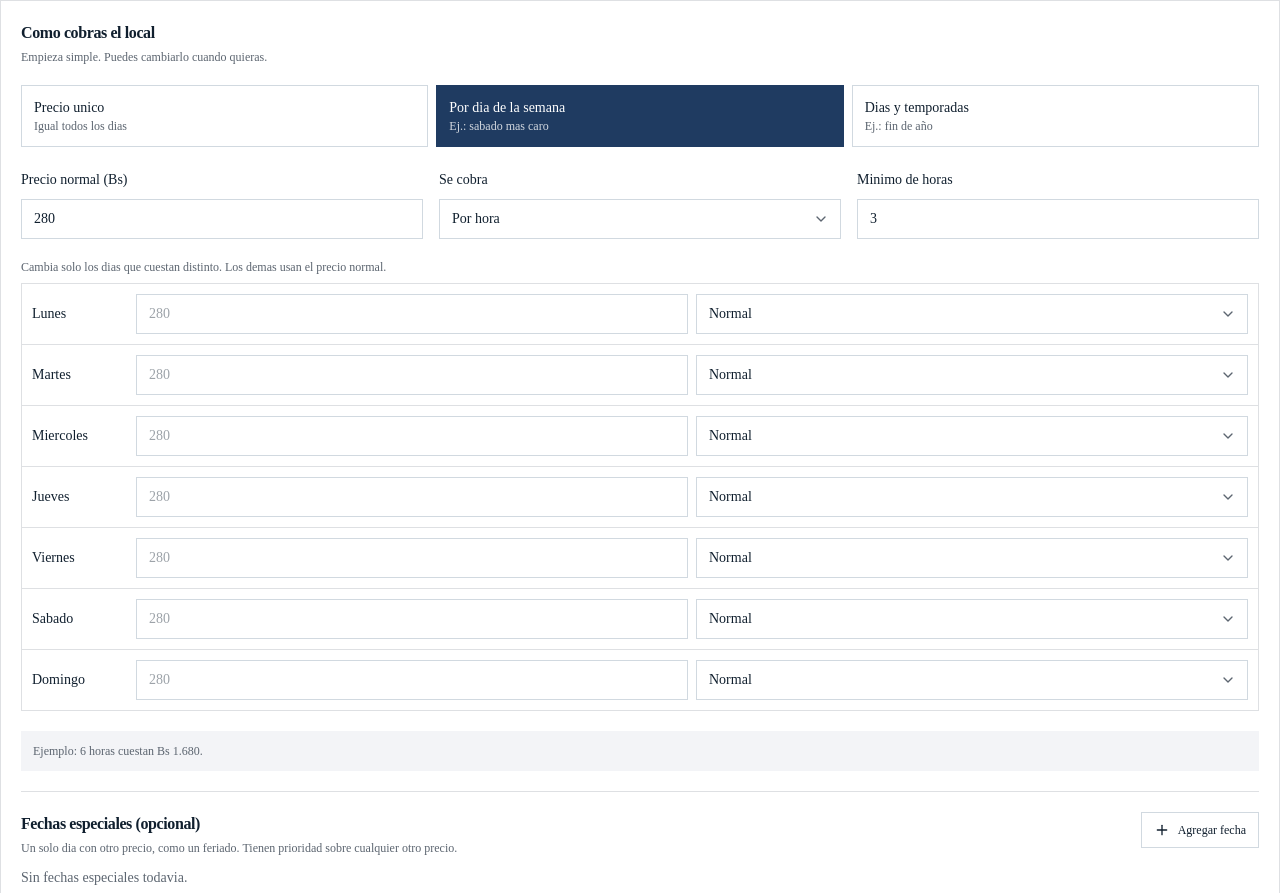
Test: VenuePricingSection › por dia: activa el dia al escribir y actualiza el ejemplo
Step 1. Type "3000" into the number field named "Precio del Sabado" → (412, 619), box left=136, top=599, right=688, bottom=639
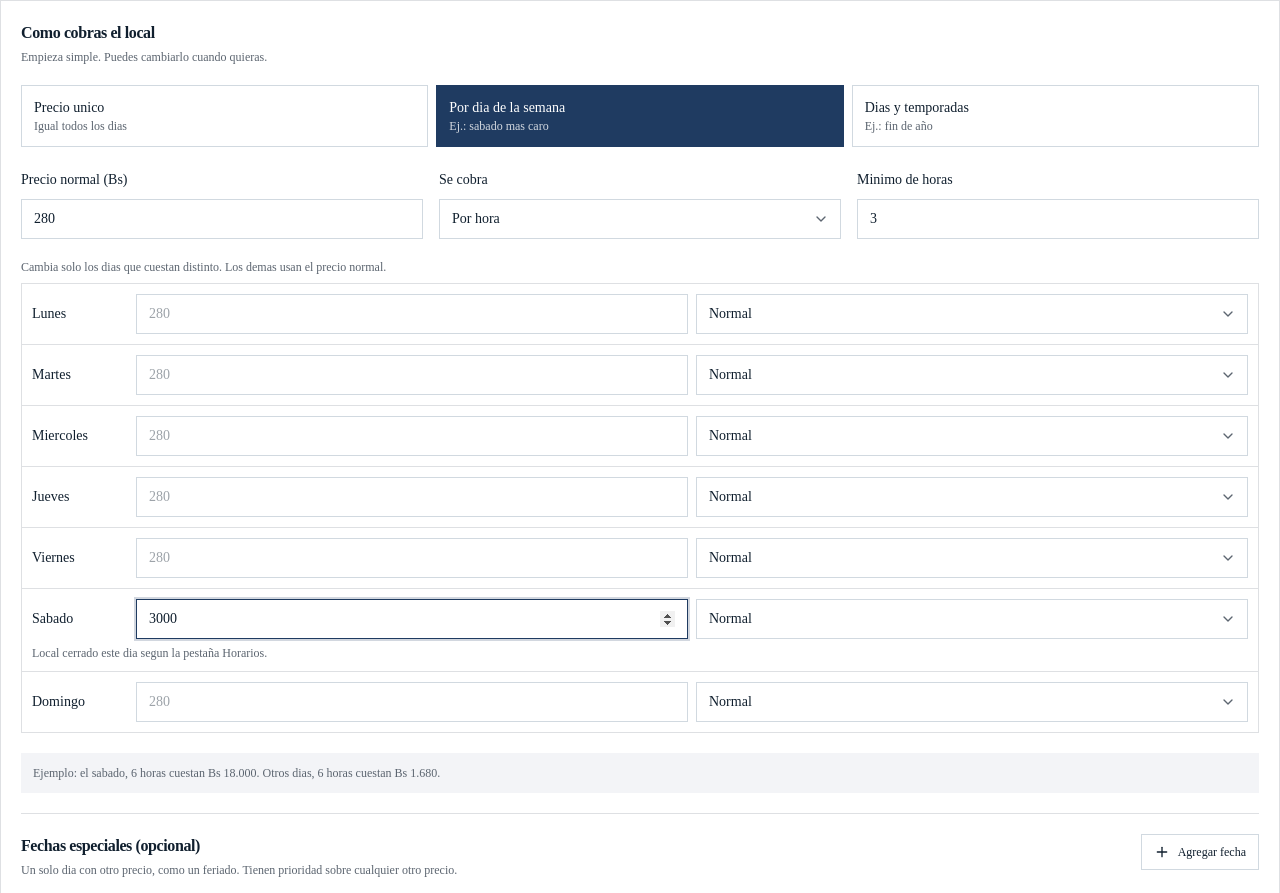
Step 2. Select "Por dia" in the dropdown named "Como se cobra el Sabado" → (972, 619), box left=696, top=599, right=1248, bottom=639
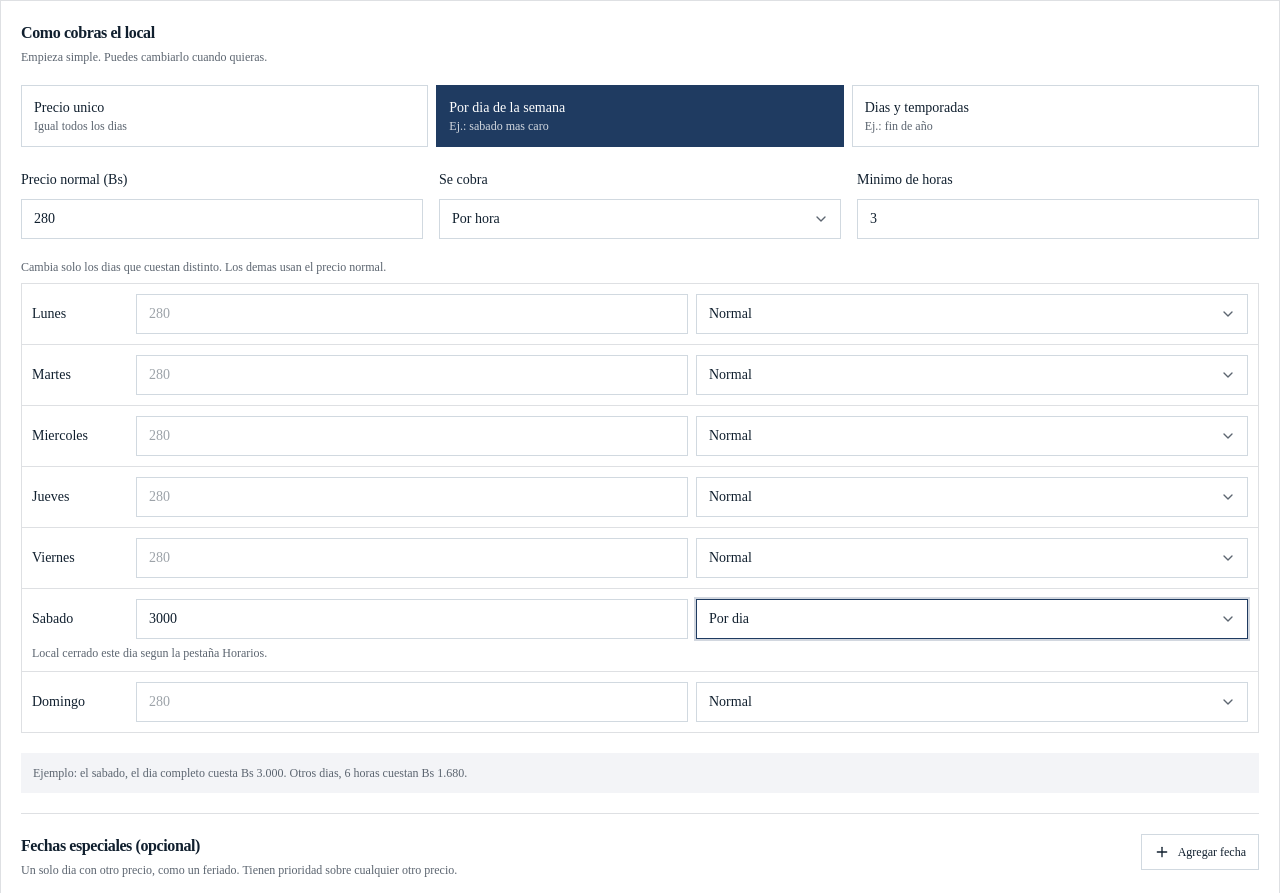
Expected: the text "el sabado, el dia completo cuesta" is shown, left=33, top=766, right=467, bottom=780
